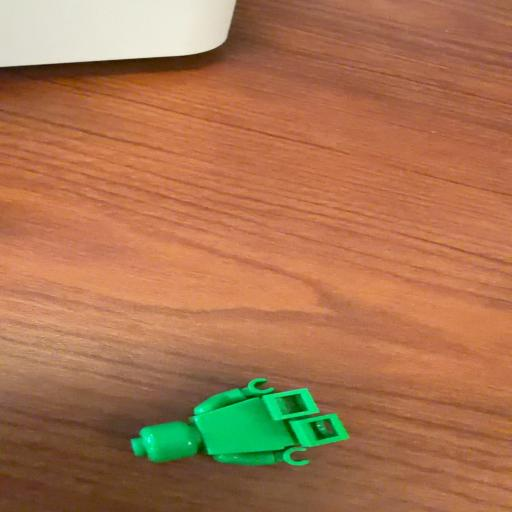UnoQ-minifig-detector: (130, 377, 349, 467)
